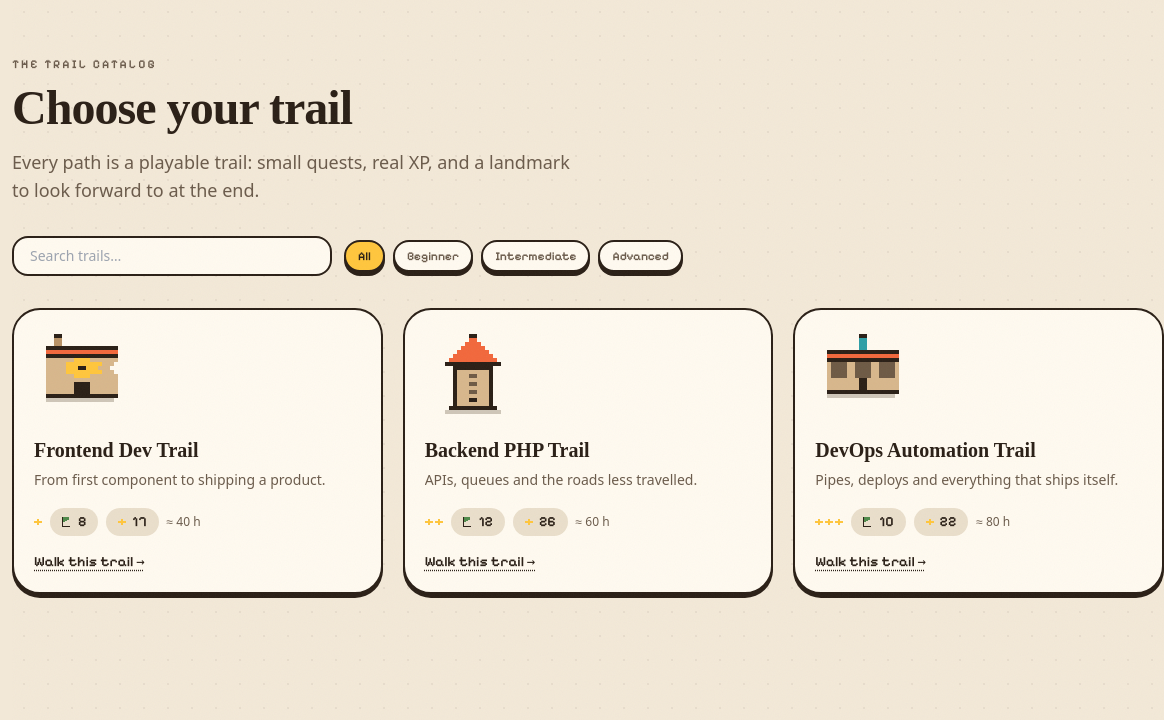
Scenario: RoadmapCatalogPage › filters trails by difficulty
The width and height of the screenshot is (1164, 720).
Click the button "Advanced" at (641, 256), box [598, 240, 683, 272]
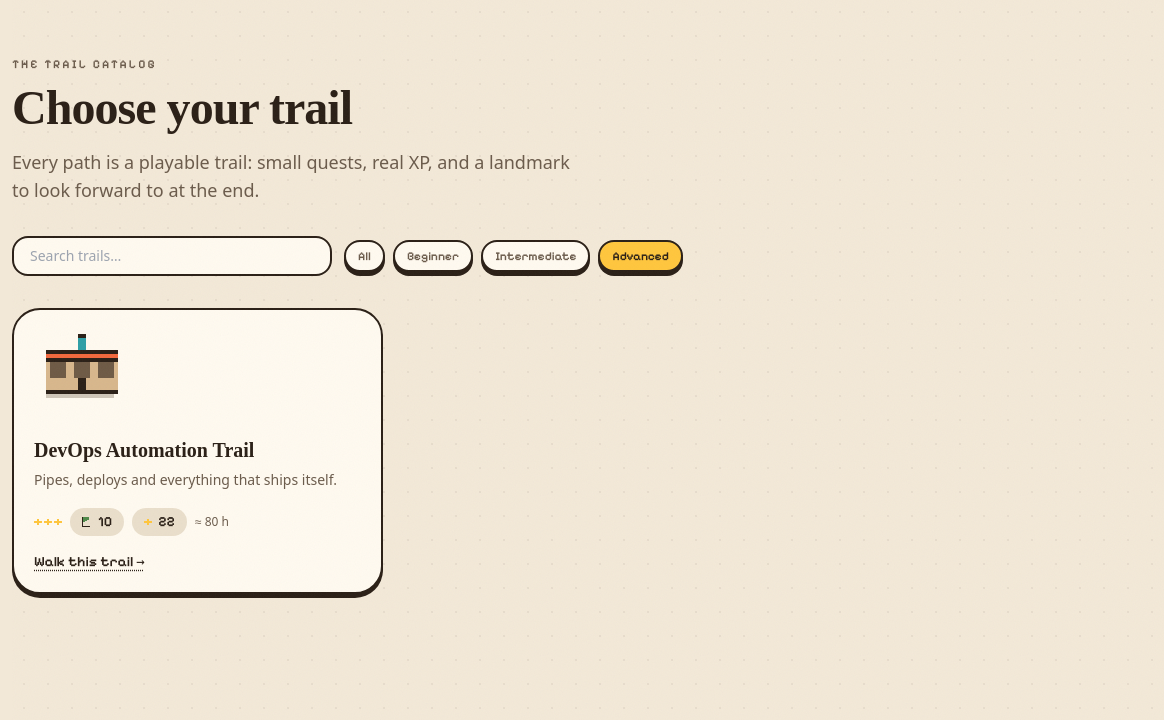
Check: the link "DevOps Automation Trail" is shown, box [12, 308, 383, 594]
Check: the link "Frontend Dev Trail" is gone
Check: the link "Backend PHP Trail" is gone
Click the button "Beginner" at (433, 256), box [393, 240, 473, 272]
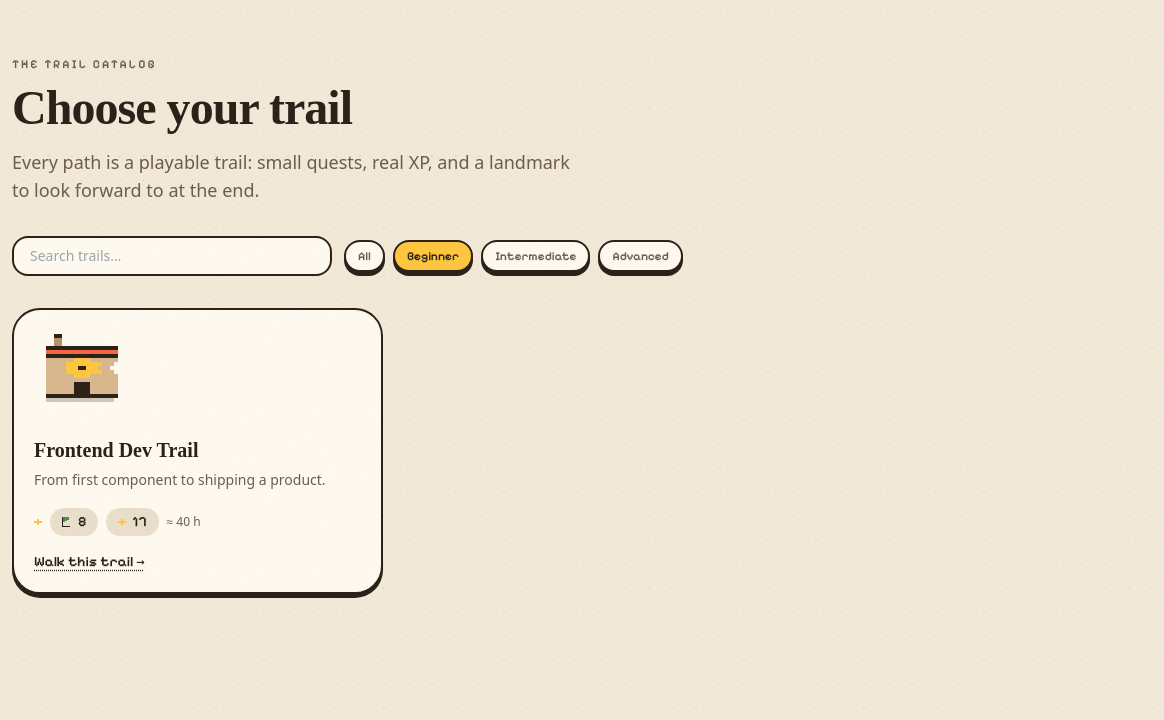
Check: the link "Frontend Dev Trail" is shown, box [12, 308, 383, 594]
Check: the link "DevOps Automation Trail" is gone
